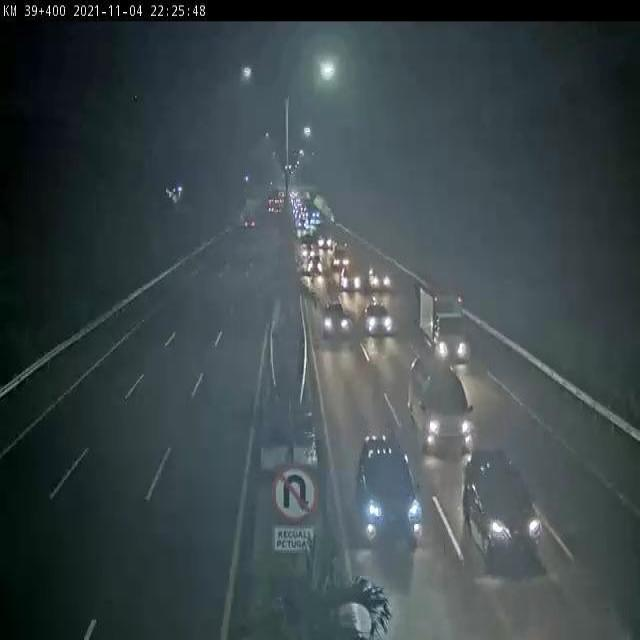ARABA: (462, 448, 542, 557), (355, 438, 422, 542), (320, 295, 349, 337), (362, 300, 394, 337), (338, 261, 364, 295), (366, 261, 392, 291)
KAMYONET: (421, 288, 470, 364)
OTOBUS: (409, 356, 475, 453)
